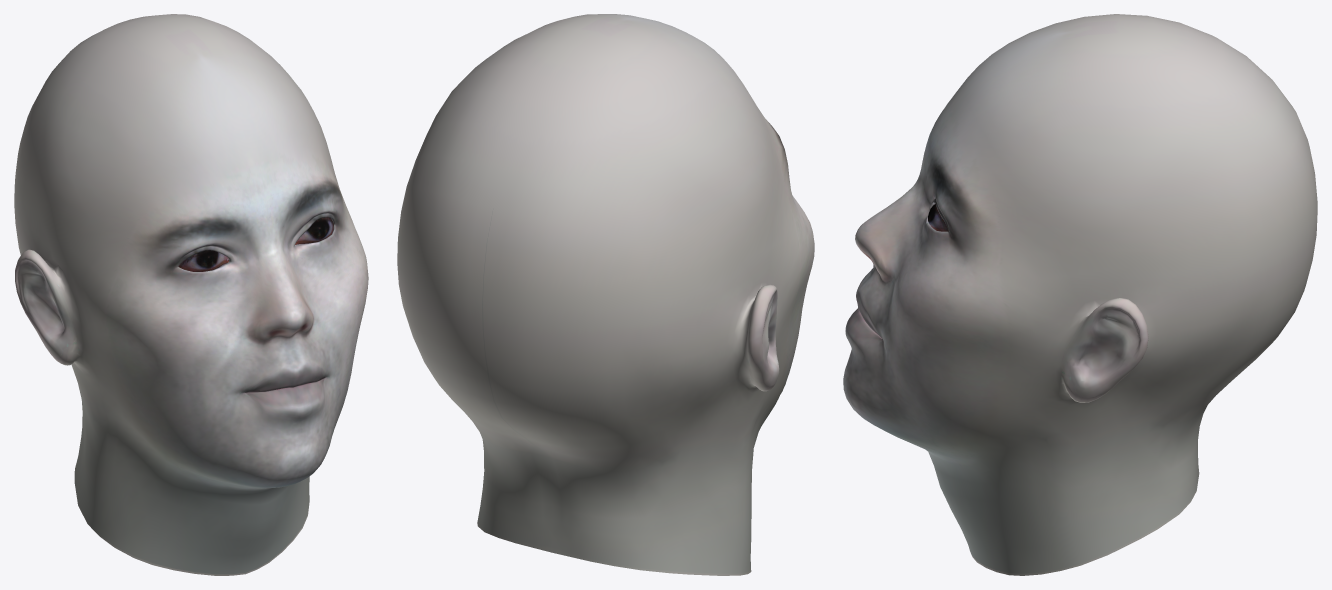
The picture shows the model from 3 angles, left to right: view 1: azimuth 30°, elevation 25°; view 2: azimuth 150°, elevation 25°; view 3: azimuth 270°, elevation 25°; orthographic projection. The views are drawn at different scales.
Visible parts, largest first — view 1: skin_hi, eyeR_hi, eyeL_hi; view 2: skin_hi; view 3: skin_hi.
Part boxes in pixels (bbox=[...]): skin_hi: bbox=[14, 14, 368, 575]; eyeR_hi: bbox=[178, 250, 228, 271]; eyeL_hi: bbox=[295, 217, 333, 244]; skin_hi: bbox=[397, 14, 814, 575]; skin_hi: bbox=[843, 14, 1317, 575].
Bounding box in the file's own units: 187 × 283 × 232.
